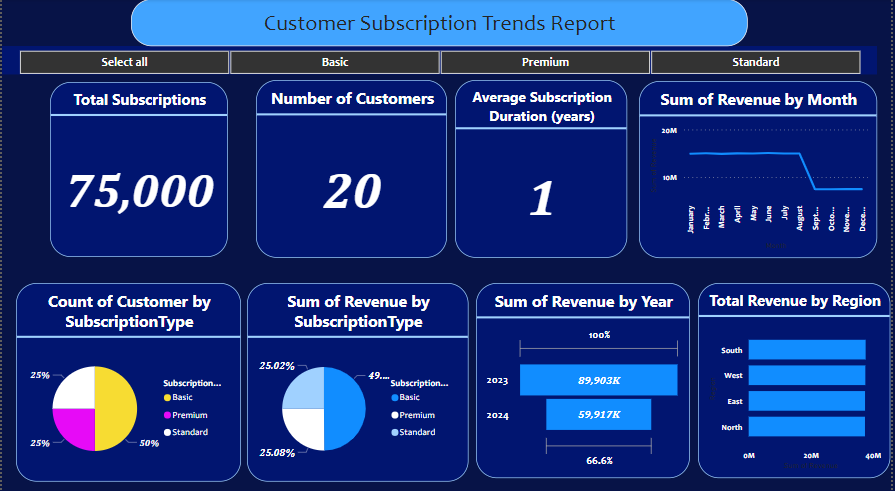

Layout of this report page (visuals, bound fields, positions):
{"tool":"powerbi","page":{"name":"Customer Subscription Trends Report","canvas":[1280,720],"ordinal":1},"visuals":[{"type":"pieChart","fields":{"Category":["CustomerData.SubscriptionType"],"Y":["Sum(CustomerData.Revenue)"]},"box":[352.9,408.7,318.6,286.2],"z":0},{"type":"funnel","fields":{"Category":["CustomerData.SubscriptionEnd.Variation.Date Hierarchy.Year","CustomerData.SubscriptionEnd.Variation.Date Hierarchy.Quarter","CustomerData.SubscriptionEnd.Variation.Date Hierarchy.Month","CustomerData.SubscriptionEnd.Variation.Date Hierarchy.Day"],"Y":["Sum(CustomerData.Revenue)"]},"box":[19.8,117,324.1,279],"z":1000},{"type":"slicer","title":"Subscription type","fields":{"Values":["CustomerData.SubscriptionType"]},"box":[0,67.9,1260.3,41.1],"z":2000},{"type":"textbox","box":[185.4,0,887.5,68.4],"z":3000},{"type":"card","title":"Number of Customers","fields":{"Values":["Count(CustomerData.CustomerID)"]},"box":[365.5,117,275.4,255.6],"z":4000},{"type":"pieChart","title":"Canceled Subscription by Region","fields":{"Category":["CustomerData.Region"],"Y":["Sum(CustomerData.CanceledCount)"]},"box":[687.7,408.7,306,286.2],"z":5000},{"type":"clusteredBarChart","title":"Total Revenue by Region","fields":{"Category":["CustomerData.Region"],"Y":["Sum(CustomerData.Revenue)"]},"box":[1002.8,408.7,277.2,280.8],"z":6000},{"type":"lineChart","fields":{"Category":["CustomerData.SubscriptionEnd.Variation.Date Hierarchy.Month","CustomerData.Region"],"Y":["Sum(CustomerData.Revenue)"]},"box":[917.1,116.2,343.2,255.6],"z":7000},{"type":"pieChart","title":"Count of Customer by SubscriptionType","fields":{"Category":["CustomerData.SubscriptionType"],"Y":["CountNonNull(CustomerData.CustomerID)"]},"box":[20,409,324,286],"z":8000},{"type":"card","title":"Average Subscription Duration (years)","fields":{"Values":["CustomerData.AveSubDuration"]},"box":[652.5,116.2,248.5,255.6],"z":9000}]}

Visuals, with their boxes in screenshot pixels (x1, y1, x2, y2), scaled from the page's 1280x720 canvas onto the 895x491 screenshot:
pieChart - CustomerData.SubscriptionType x Sum(CustomerData.Revenue): x1=247, y1=279, x2=470, y2=474
funnel - CustomerData.SubscriptionEnd.Variation.Date Hierarchy.Year x CustomerData.SubscriptionEnd.Variation.Date Hierarchy.Quarter: x1=14, y1=80, x2=240, y2=270
"Subscription type" slicer: x1=0, y1=46, x2=881, y2=74
textbox: x1=130, y1=0, x2=750, y2=47
"Number of Customers" card: x1=256, y1=80, x2=448, y2=254
"Canceled Subscription by Region" pieChart: x1=481, y1=279, x2=695, y2=474
"Total Revenue by Region" clusteredBarChart: x1=701, y1=279, x2=894, y2=470
lineChart - CustomerData.SubscriptionEnd.Variation.Date Hierarchy.Month x CustomerData.Region: x1=641, y1=79, x2=881, y2=254
"Count of Customer by SubscriptionType" pieChart: x1=14, y1=279, x2=241, y2=474
"Average Subscription Duration (years)" card: x1=456, y1=79, x2=630, y2=254
